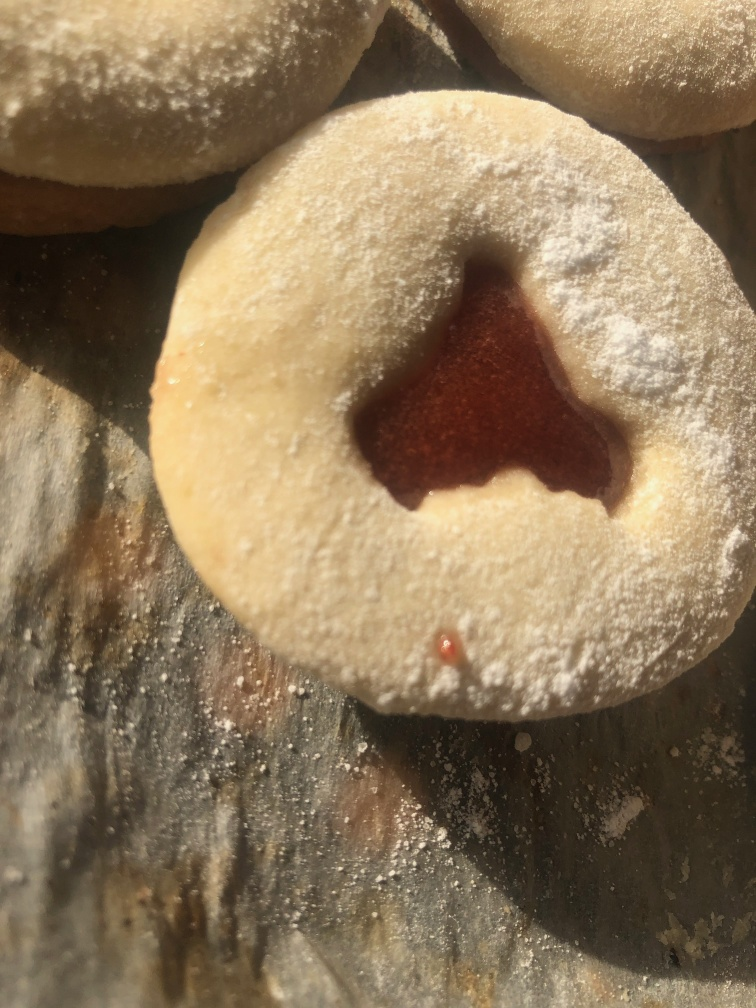christmas shortbread with jam: (149, 86, 755, 721), (4, 1, 381, 242)
